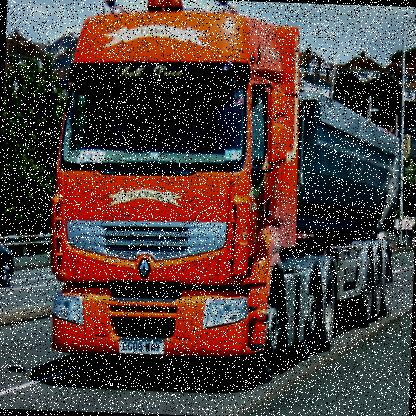Car: (0, 233, 17, 289)
